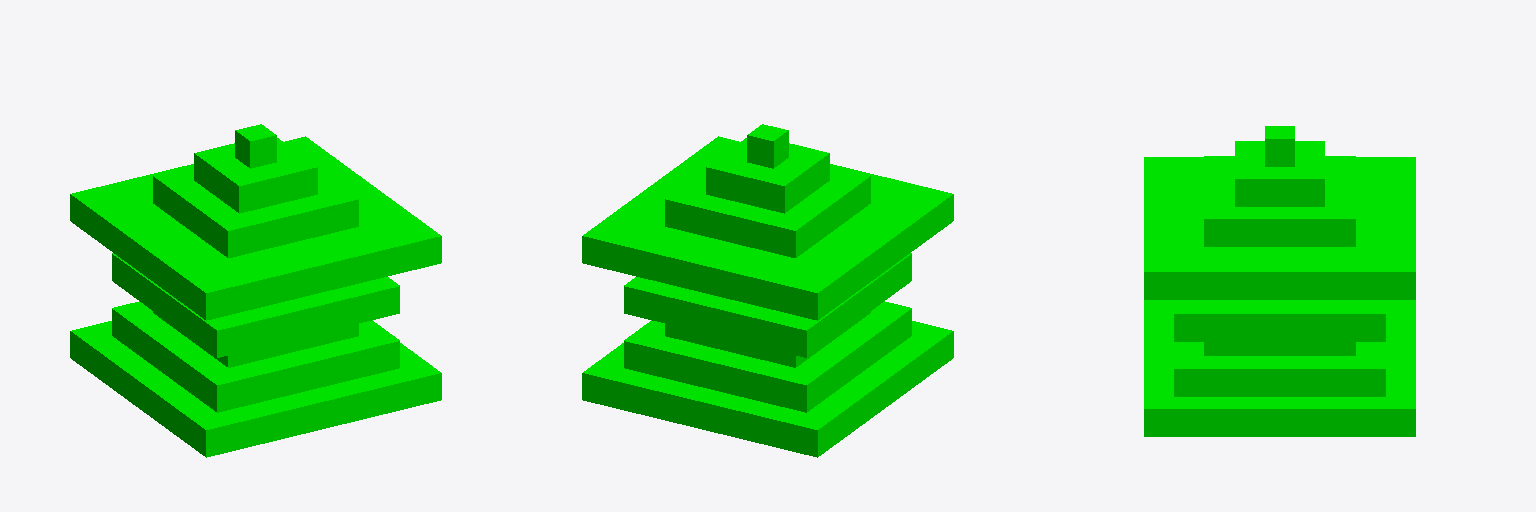
File: bloom.vox.obj
3 renders of one model, left to right at view 1: azimuth 30°, elevation 25°; view 2: azimuth 150°, elevation 25°; view 3: azimuth 270°, elevation 25°, orthographic.
Parts seen in each view (by area): view 1: Bloom; view 2: Bloom; view 3: Bloom.
Boxes of the visible parts, box(x1,y1,x2,y2) form: Bloom: box(70, 124, 441, 457); Bloom: box(582, 124, 953, 457); Bloom: box(1144, 126, 1415, 436).
Size of the model in its own units: 0.9 by 0.9 by 0.9.